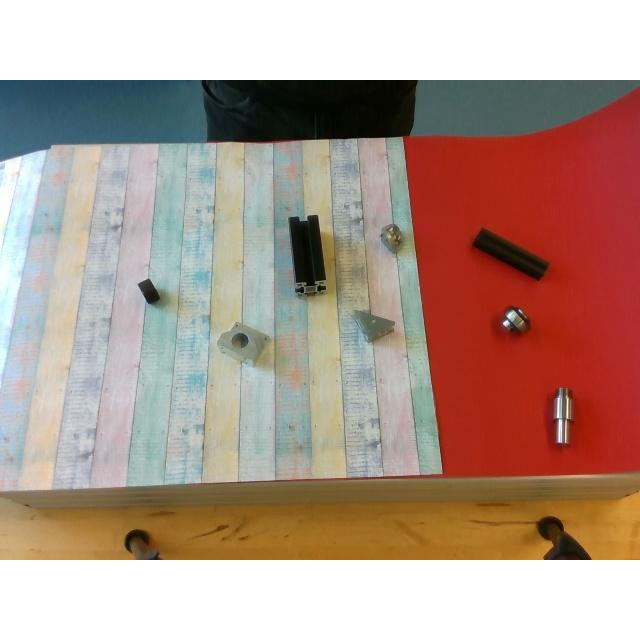Axis2: (552, 386, 572, 442)
Bearing2: (502, 306, 530, 334)
F20_20_B: (471, 228, 549, 278)
M20: (138, 279, 160, 305)
S40_40_B: (289, 214, 325, 292)
